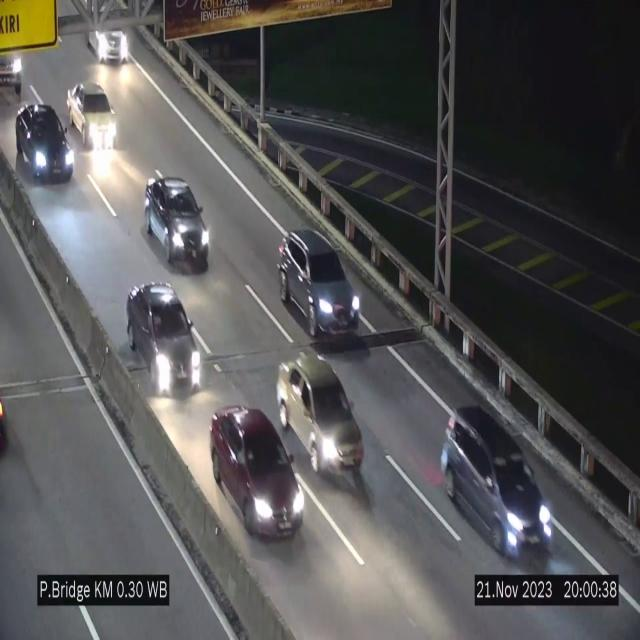Car: (440, 405, 554, 559), (276, 347, 365, 498), (208, 402, 304, 540), (121, 276, 199, 398), (278, 230, 362, 342), (15, 98, 79, 196), (146, 176, 210, 270), (66, 74, 118, 158)
